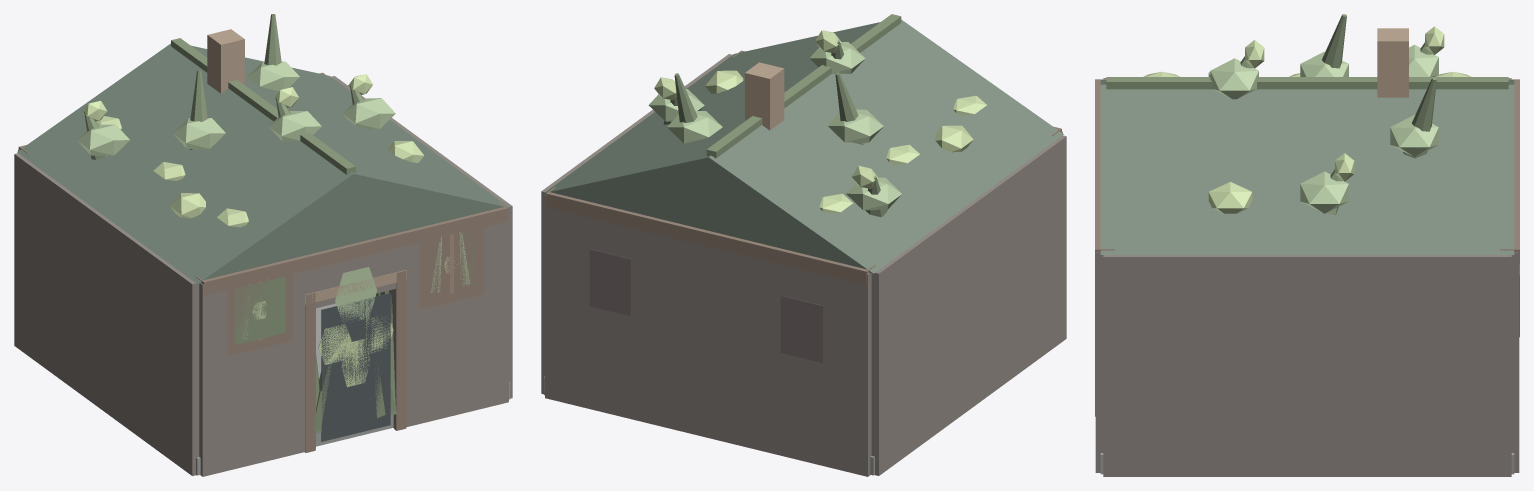
The model's file is peat_hut_infested.glb.
3 renders of one model, left to right at view 1: azimuth 30°, elevation 25°; view 2: azimuth 150°, elevation 25°; view 3: azimuth 270°, elevation 25°, orthographic. The views are drawn at different scales.
Parts seen in each view (by area): view 1: peat_hut_mat_01, peat_hut_mat_10, peat_hut_mat_02, peat_hut_mat_04, peat_hut_mat_06, peat_hut_mat_08, peat_hut_mat_05, peat_hut_mat_03, peat_hut_mat_00; view 2: peat_hut_mat_01, peat_hut_mat_10, peat_hut_mat_02, peat_hut_mat_09, peat_hut_mat_08, peat_hut_mat_05, peat_hut_mat_06, peat_hut_mat_03; view 3: peat_hut_mat_01, peat_hut_mat_10, peat_hut_mat_06, peat_hut_mat_08, peat_hut_mat_05, peat_hut_mat_02, peat_hut_mat_03.
Part boxes in pixels (box(x1,y1,x2,y2)): peat_hut_mat_01: box(14, 76, 512, 476); peat_hut_mat_10: box(17, 43, 509, 284); peat_hut_mat_02: box(18, 72, 508, 452); peat_hut_mat_04: box(321, 293, 390, 441); peat_hut_mat_06: box(84, 14, 477, 433); peat_hut_mat_08: box(77, 61, 470, 339); peat_hut_mat_05: box(82, 74, 459, 387); peat_hut_mat_03: box(207, 29, 406, 304); peat_hut_mat_00: box(196, 303, 510, 475); peat_hut_mat_01: box(541, 54, 1066, 476); peat_hut_mat_10: box(544, 19, 1063, 273); peat_hut_mat_02: box(546, 50, 1061, 428); peat_hut_mat_09: box(589, 249, 822, 362); peat_hut_mat_08: box(648, 42, 901, 210); peat_hut_mat_05: box(654, 30, 986, 213); peat_hut_mat_06: box(663, 14, 901, 217); peat_hut_mat_03: box(745, 62, 784, 130); peat_hut_mat_01: box(1095, 78, 1519, 476); peat_hut_mat_10: box(1100, 80, 1514, 254); peat_hut_mat_06: box(1106, 14, 1508, 215); peat_hut_mat_08: box(1210, 44, 1438, 213); peat_hut_mat_05: box(1143, 26, 1471, 213); peat_hut_mat_02: box(1095, 79, 1519, 416); peat_hut_mat_03: box(1377, 28, 1408, 97).
Bounding box in the file's own units: 2.97 × 2.73 × 2.98.
